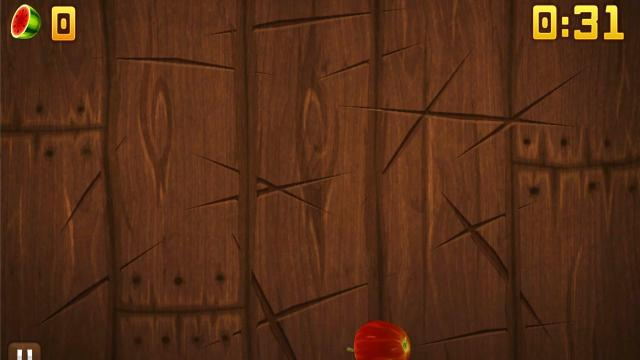fruit: (352, 320, 412, 360)
ignore: (9, 3, 43, 41)
